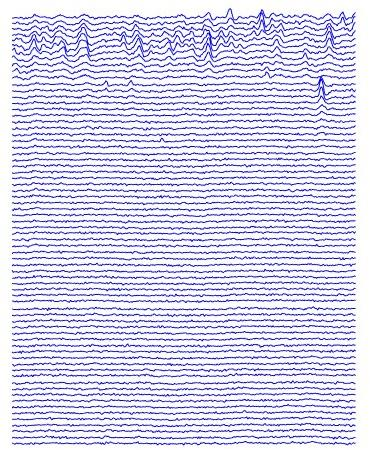defect: (163, 27, 213, 65), (214, 8, 242, 58), (59, 27, 92, 62), (267, 39, 288, 81), (120, 28, 145, 60), (254, 5, 273, 36), (316, 70, 330, 112), (321, 22, 338, 50), (29, 27, 41, 61), (300, 44, 312, 76)
